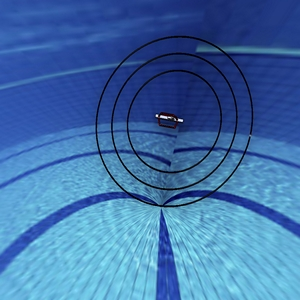circle: (84, 30, 260, 212)
submarine: (142, 100, 189, 138)
